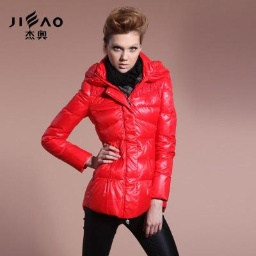face: (101, 4, 149, 75)
